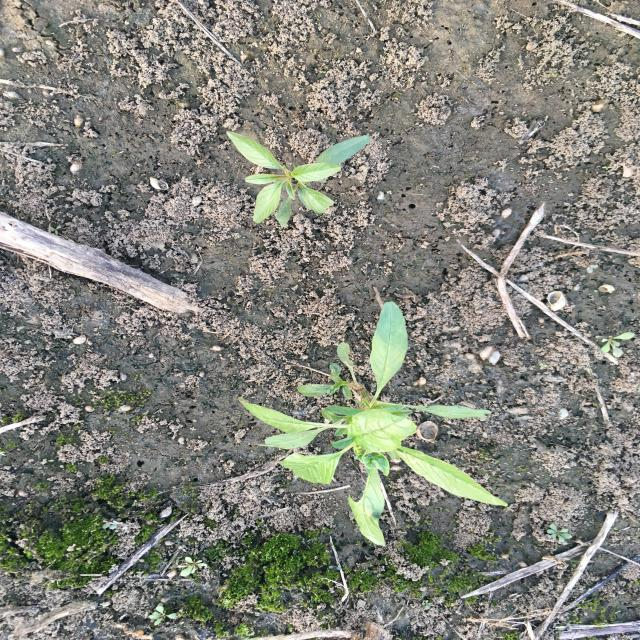Waterhemp: (236, 300, 509, 548), (224, 130, 375, 229)
